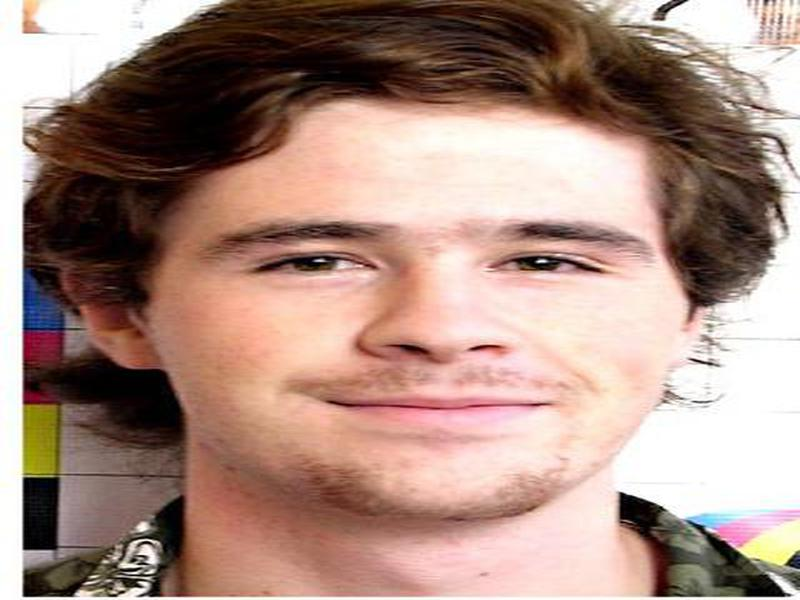without_mask: (151, 121, 683, 521)
